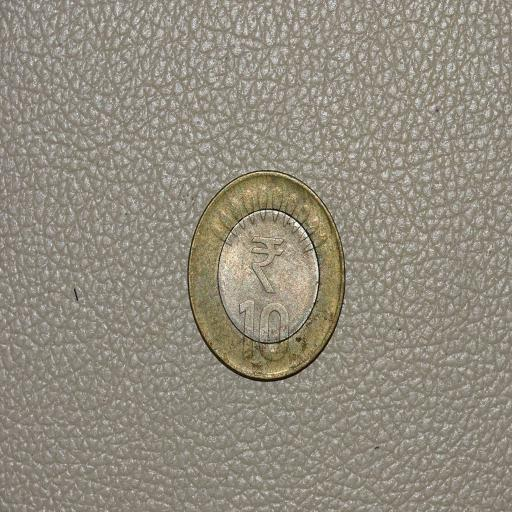rupee10: (185, 169, 348, 382)
